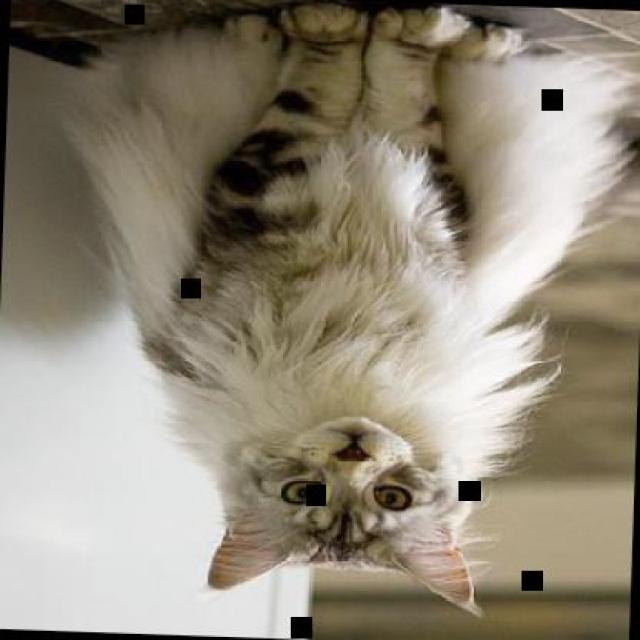cat: (64, 0, 638, 625)
